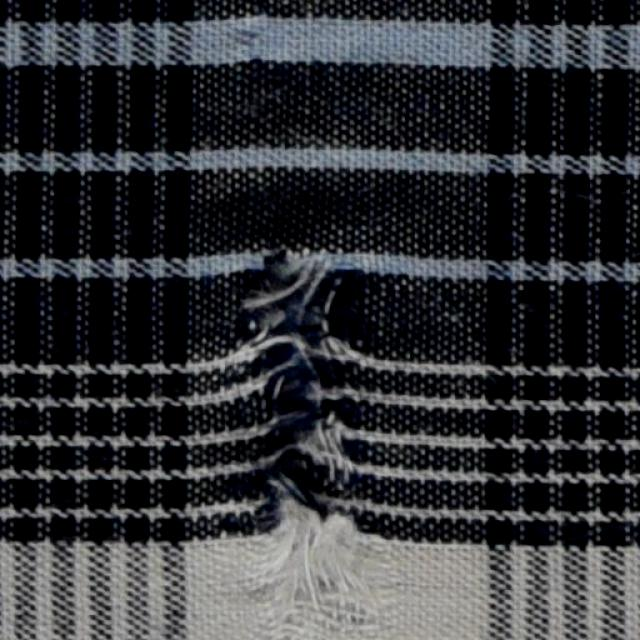Snag: (238, 264, 380, 628)
